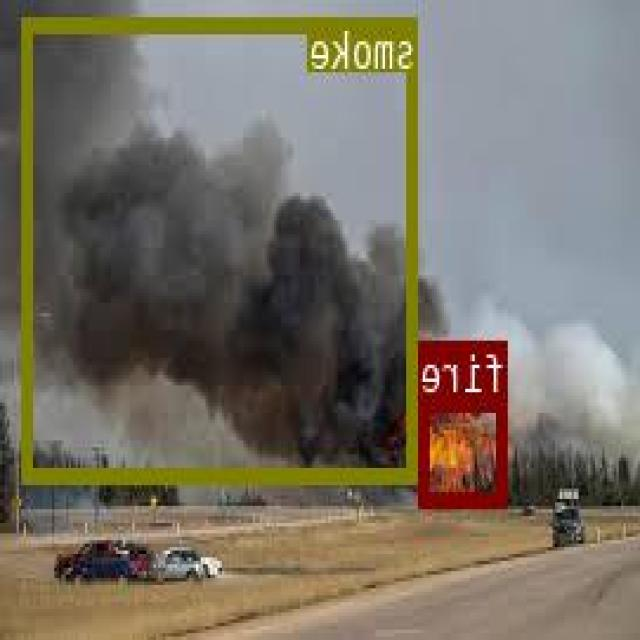fire: (422, 392, 510, 506)
smoke: (24, 14, 419, 478)
